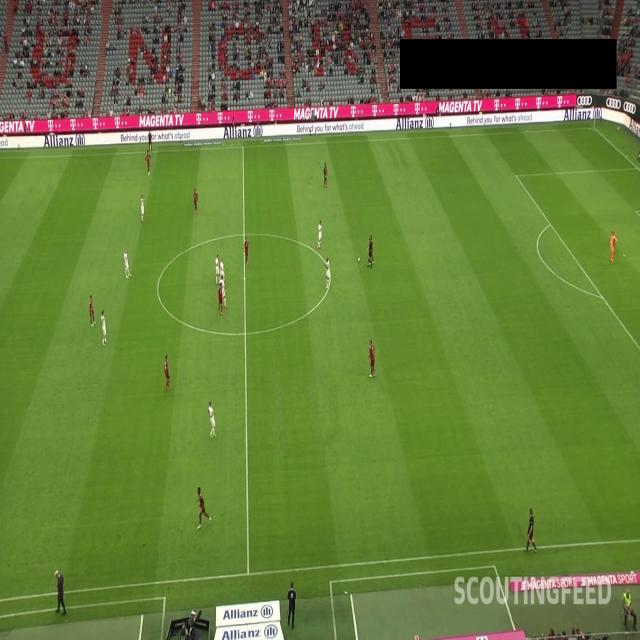ball: (354, 253, 364, 268)
player: (197, 482, 212, 534), (206, 399, 218, 439), (608, 229, 620, 268), (99, 309, 108, 348), (323, 258, 333, 293), (122, 248, 132, 281), (368, 339, 376, 379), (163, 353, 171, 392), (138, 194, 148, 225), (88, 294, 96, 330), (217, 281, 225, 317), (242, 237, 250, 269), (220, 276, 229, 304), (144, 148, 152, 178), (218, 259, 226, 288), (192, 187, 200, 214), (214, 252, 221, 282), (316, 218, 322, 251), (322, 162, 329, 189), (369, 235, 374, 262)
